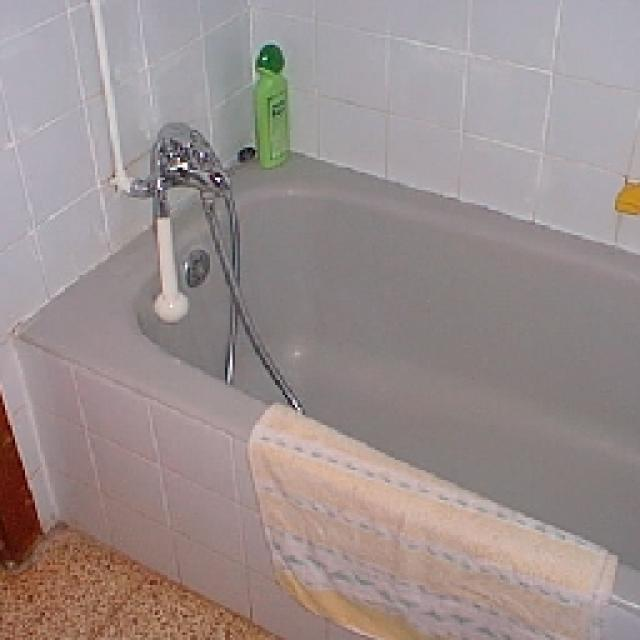bathtub: (10, 142, 638, 638)
bottle: (252, 40, 288, 165)
floor -X: (0, 518, 278, 638)
towel basket: (245, 398, 615, 638)
wall clock: (248, 0, 638, 252)
